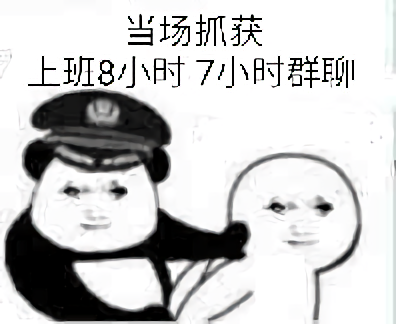dragon: (262, 197, 338, 254), (57, 178, 134, 234)
